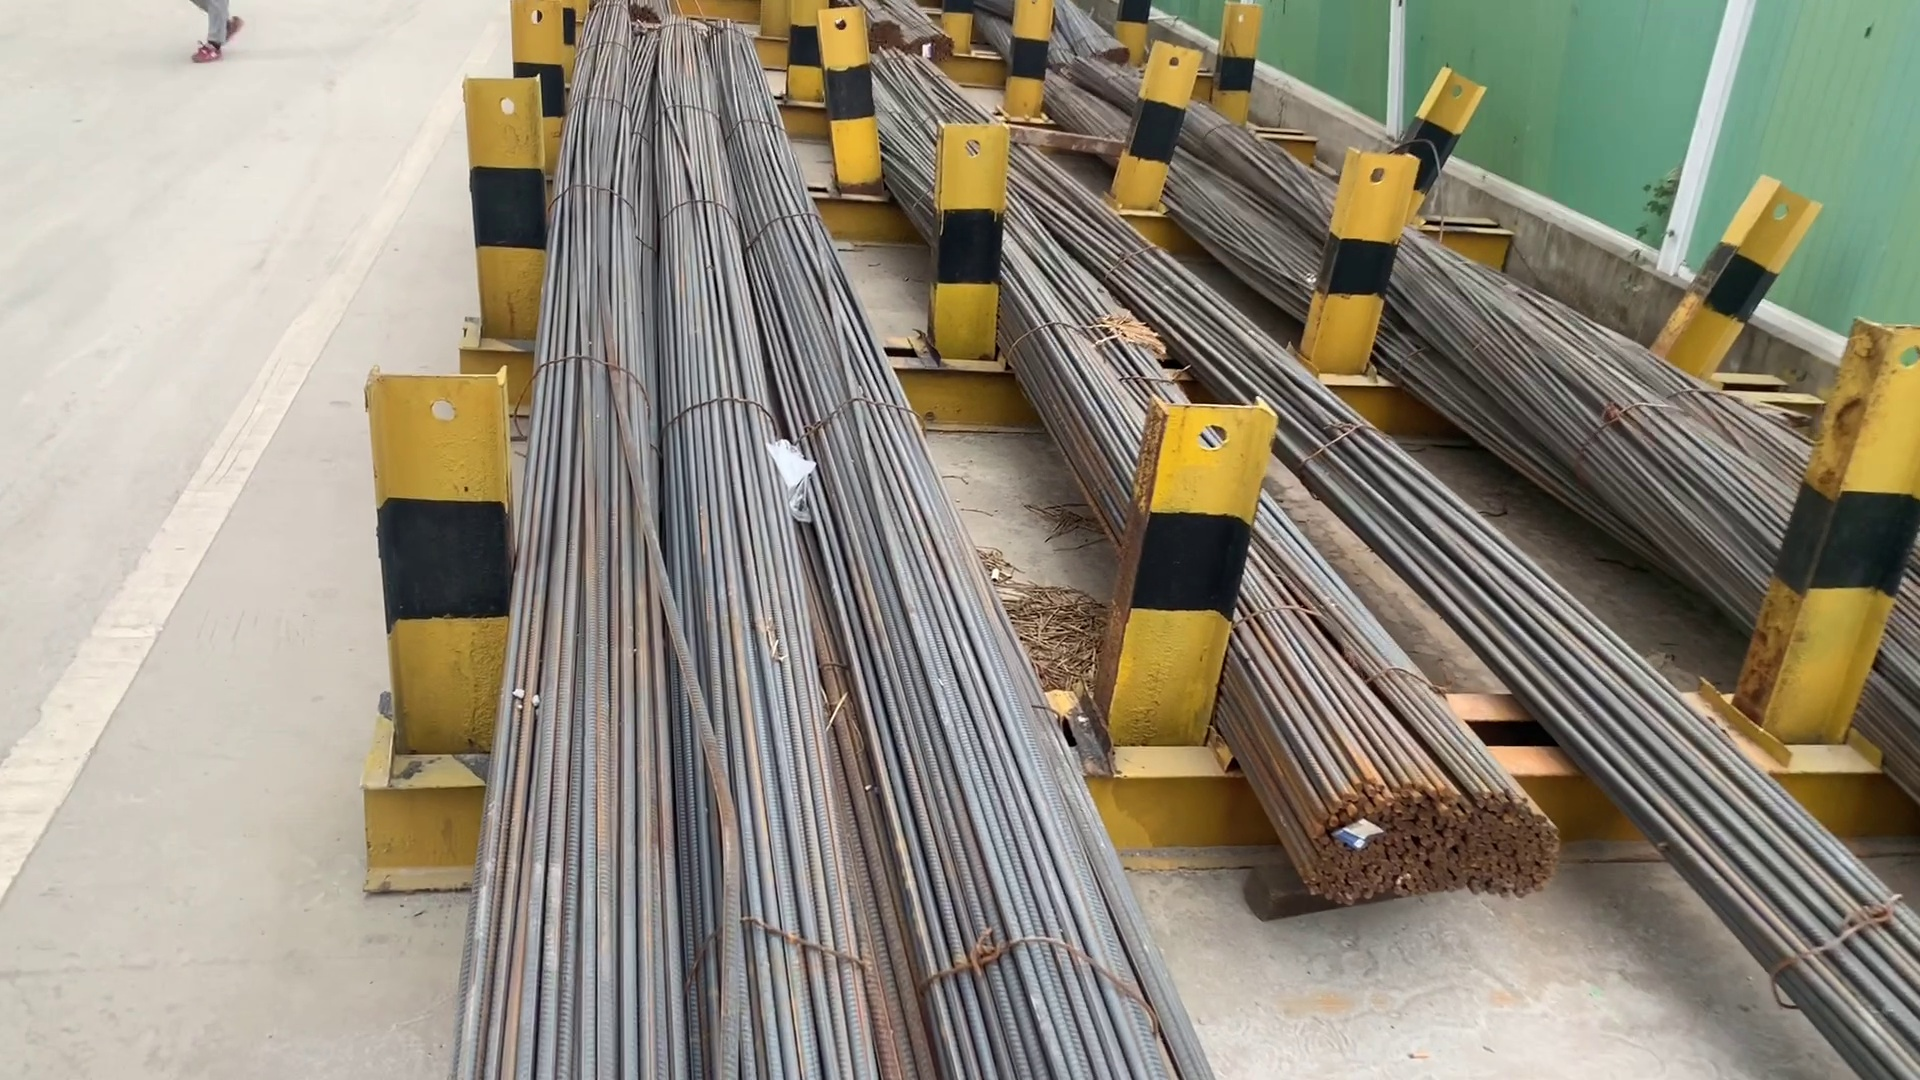rebar: (1298, 770, 1557, 899), (866, 16, 907, 55), (913, 30, 960, 61)
